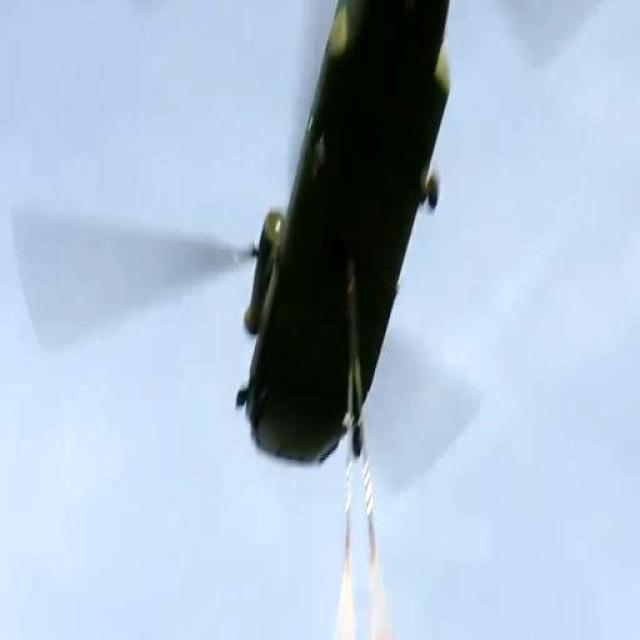drone: (38, 0, 525, 474)
